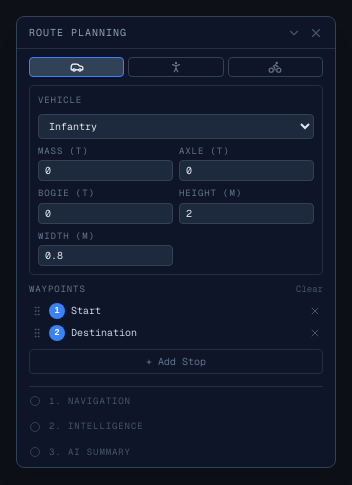
Test: RoutePanel › clears all waypoints when Clear is clicked
Click the button with aria-label "Clear all waypoints": (310, 290) [296,283,323,296]
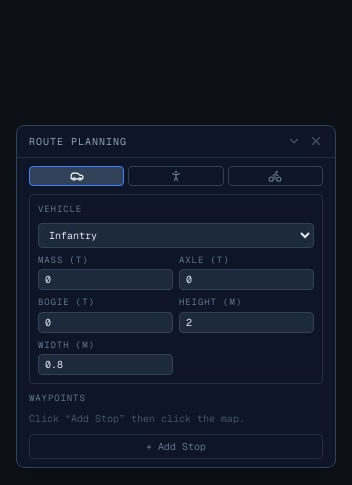
Expected: the element with test id "waypoint-row-0" is gone
